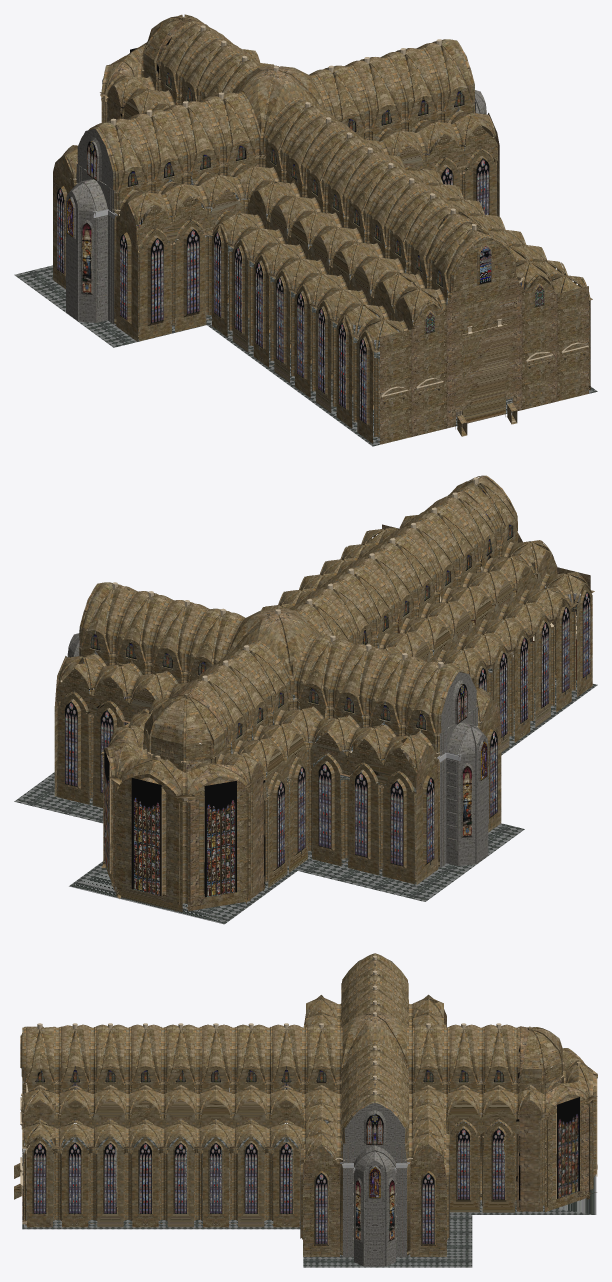
Rendered from newchurch.glb.
3 views of the same model, one above another, from view 1: azimuth 30°, elevation 25°; view 2: azimuth 150°, elevation 25°; view 3: azimuth 270°, elevation 25° (orthographic). The views are drawn at different scales.
Parts seen in each view (by area): view 1: Object_5, Object_6, Object_89, Object_45, Object_7, Object_37, Object_9, Object_4; view 2: Object_5, Object_6, Object_9, Object_89, Object_7, Object_45, Object_37, Object_11, Object_4; view 3: Object_5, Object_6, Object_89, Object_45, Object_9, Object_7, Object_37, Object_11, Object_4.
Boxes of the visible parts, bbox=[...] form: Object_5: bbox=[76, 23, 590, 444]; Object_6: bbox=[88, 23, 590, 437]; Object_89: bbox=[53, 39, 499, 341]; Object_45: bbox=[57, 72, 563, 424]; Object_7: bbox=[75, 65, 496, 341]; Object_37: bbox=[14, 170, 597, 446]; Object_9: bbox=[100, 14, 261, 164]; Object_4: bbox=[60, 25, 592, 442]; Object_5: bbox=[56, 475, 592, 802]; Object_6: bbox=[74, 475, 591, 881]; Object_9: bbox=[102, 689, 265, 912]; Object_89: bbox=[54, 582, 501, 884]; Object_7: bbox=[56, 608, 484, 887]; Object_45: bbox=[65, 487, 590, 867]; Object_37: bbox=[14, 634, 597, 924]; Object_11: bbox=[104, 749, 236, 897]; Object_4: bbox=[60, 477, 594, 911]; Object_5: bbox=[22, 959, 544, 1227]; Object_6: bbox=[14, 960, 557, 1220]; Object_89: bbox=[303, 953, 446, 1266]; Object_45: bbox=[33, 963, 504, 1243]; Object_9: bbox=[516, 1026, 596, 1212]; Object_7: bbox=[300, 1011, 514, 1239]; Object_37: bbox=[22, 1103, 596, 1267]; Object_11: bbox=[556, 1079, 597, 1198]; Object_4: bbox=[20, 955, 597, 1238].
Bounding box in the file's own units: 92.09 × 44.08 × 133.
Materials: 12 (10 with a texture image).
